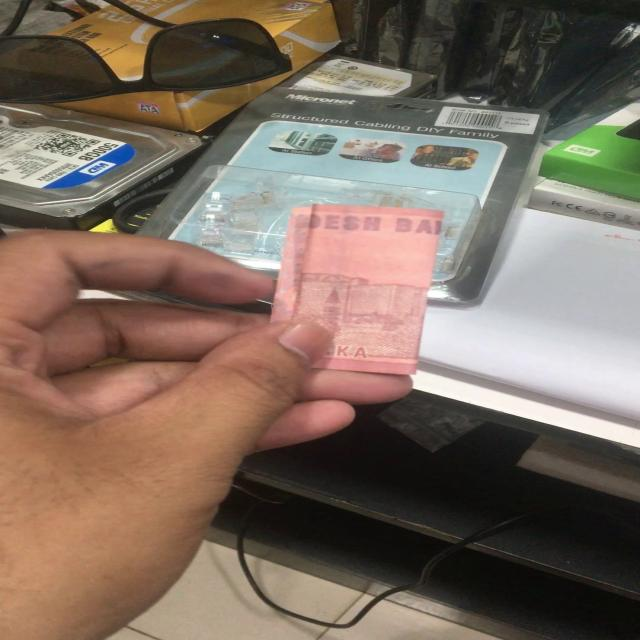Taka: (290, 203, 432, 369)
